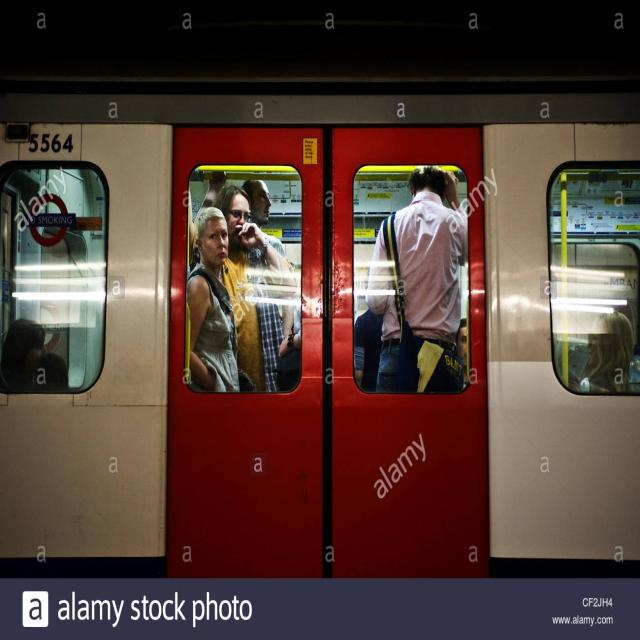body: (366, 165, 469, 393), (194, 167, 296, 393), (193, 168, 294, 340), (185, 205, 242, 395), (0, 313, 78, 404), (580, 309, 636, 395), (351, 266, 385, 395), (271, 292, 303, 394), (452, 316, 476, 393), (552, 354, 580, 396)
